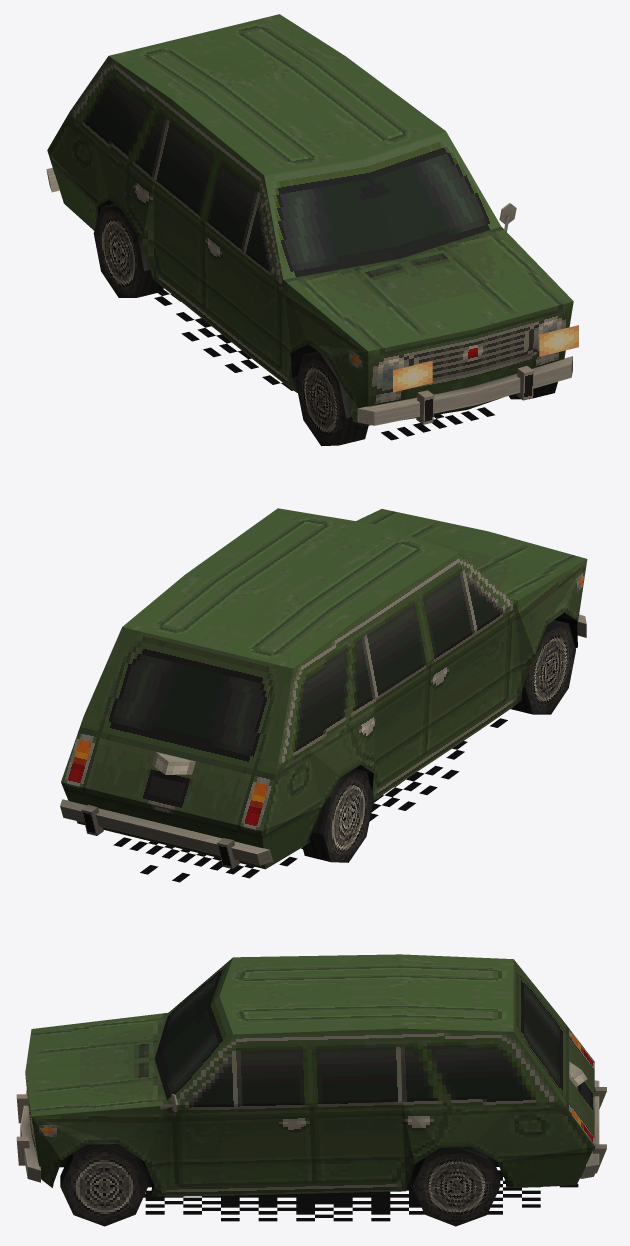
Rendered from hatch.glb.
3 renders of one model, top to bottom at view 1: azimuth 30°, elevation 25°; view 2: azimuth 150°, elevation 25°; view 3: azimuth 270°, elevation 25°, orthographic. The views are drawn at different scales.
Visible parts, largest first — view 1: Body, BlobShadow, Headlight_1, Headlight_-1; view 2: Body, BlobShadow; view 3: Body, BlobShadow.
Part boxes in pixels (left/top/right/bottom): Body: left=46, top=14, right=573, bottom=446; BlobShadow: left=154, top=289, right=494, bottom=440; Headlight_1: left=539, top=325, right=578, bottom=356; Headlight_-1: left=393, top=361, right=432, bottom=392; Body: left=60, top=508, right=587, bottom=869; BlobShadow: left=113, top=718, right=507, bottom=882; Body: left=16, top=954, right=606, bottom=1226; BlobShadow: left=143, top=1166, right=578, bottom=1221.
Size of what is drawn, in the model's own units: 1.93 by 1.57 by 4.52.
3 materials, 3 textured.
